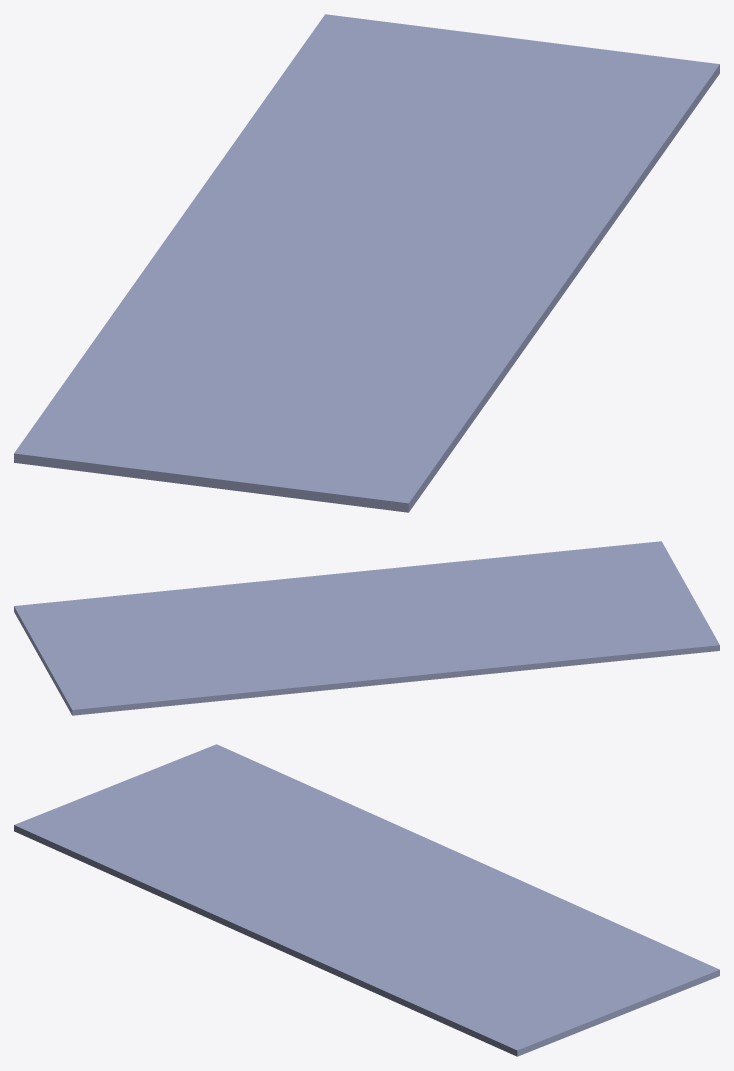
File: road.006_lev1.glb
3 renders of one model, top to bottom at view 1: azimuth 30°, elevation 25°; view 2: azimuth 150°, elevation 25°; view 3: azimuth 270°, elevation 25°, orthographic. The views are drawn at different scales.
Parts seen in each view (by area): view 1: road.006_lev1; view 2: road.006_lev1; view 3: road.006_lev1.
Boxes of the visible parts, left/top/right/bottom form: road.006_lev1: left=14, top=14, right=719, bottom=512; road.006_lev1: left=14, top=541, right=719, bottom=715; road.006_lev1: left=14, top=744, right=719, bottom=1056.
Bounding box in the file's own units: 12.19 × 0.1172 × 11.88.
1 material, 1 textured.
